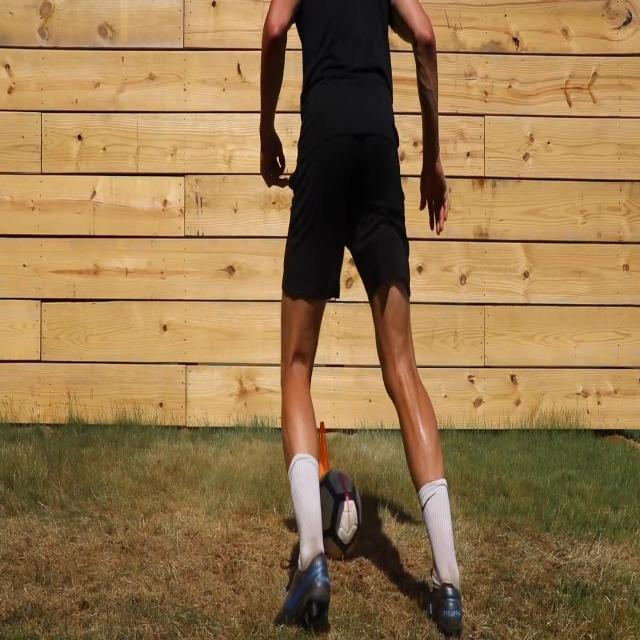Soccer Ball: (311, 467, 363, 564)
